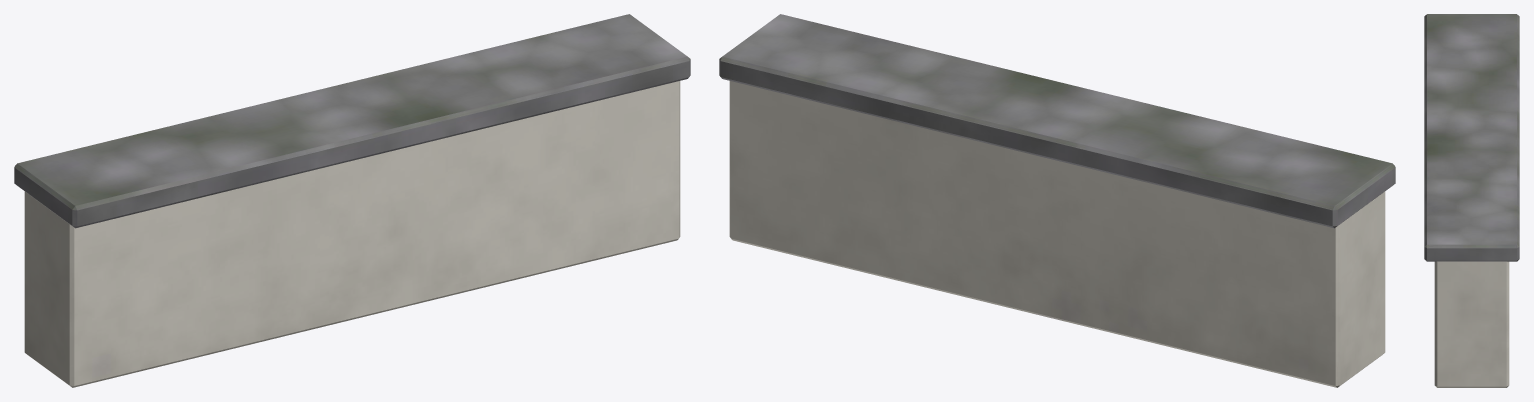
The model's file is kyrkmur_tex.glb.
The picture shows the model from 3 angles, left to right: view 1: azimuth 30°, elevation 25°; view 2: azimuth 150°, elevation 25°; view 3: azimuth 270°, elevation 25°; orthographic projection. The views are drawn at different scales.
Visible parts, largest first — view 1: kyrkmur; view 2: kyrkmur; view 3: kyrkmur.
Boxes of the visible parts, left/top/right/bottom form: kyrkmur: left=14, top=14, right=690, bottom=387; kyrkmur: left=719, top=14, right=1395, bottom=387; kyrkmur: left=1424, top=14, right=1519, bottom=387.
Size of the model in its own units: 4.05 by 1.18 by 0.7.
2 materials, 2 textured.
